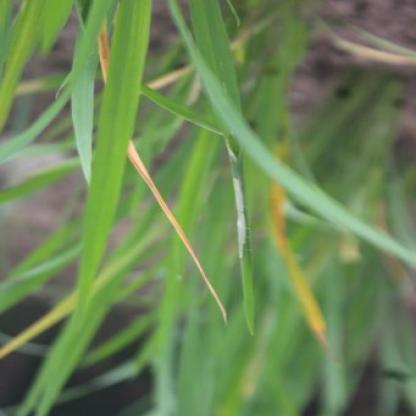Tungro: (258, 174, 336, 346)
